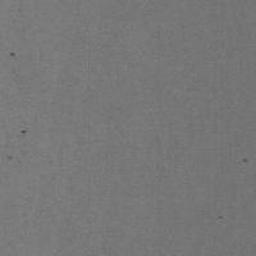Inclusion: (19, 129, 29, 136), (9, 51, 17, 59), (242, 156, 250, 164), (6, 154, 15, 161)
